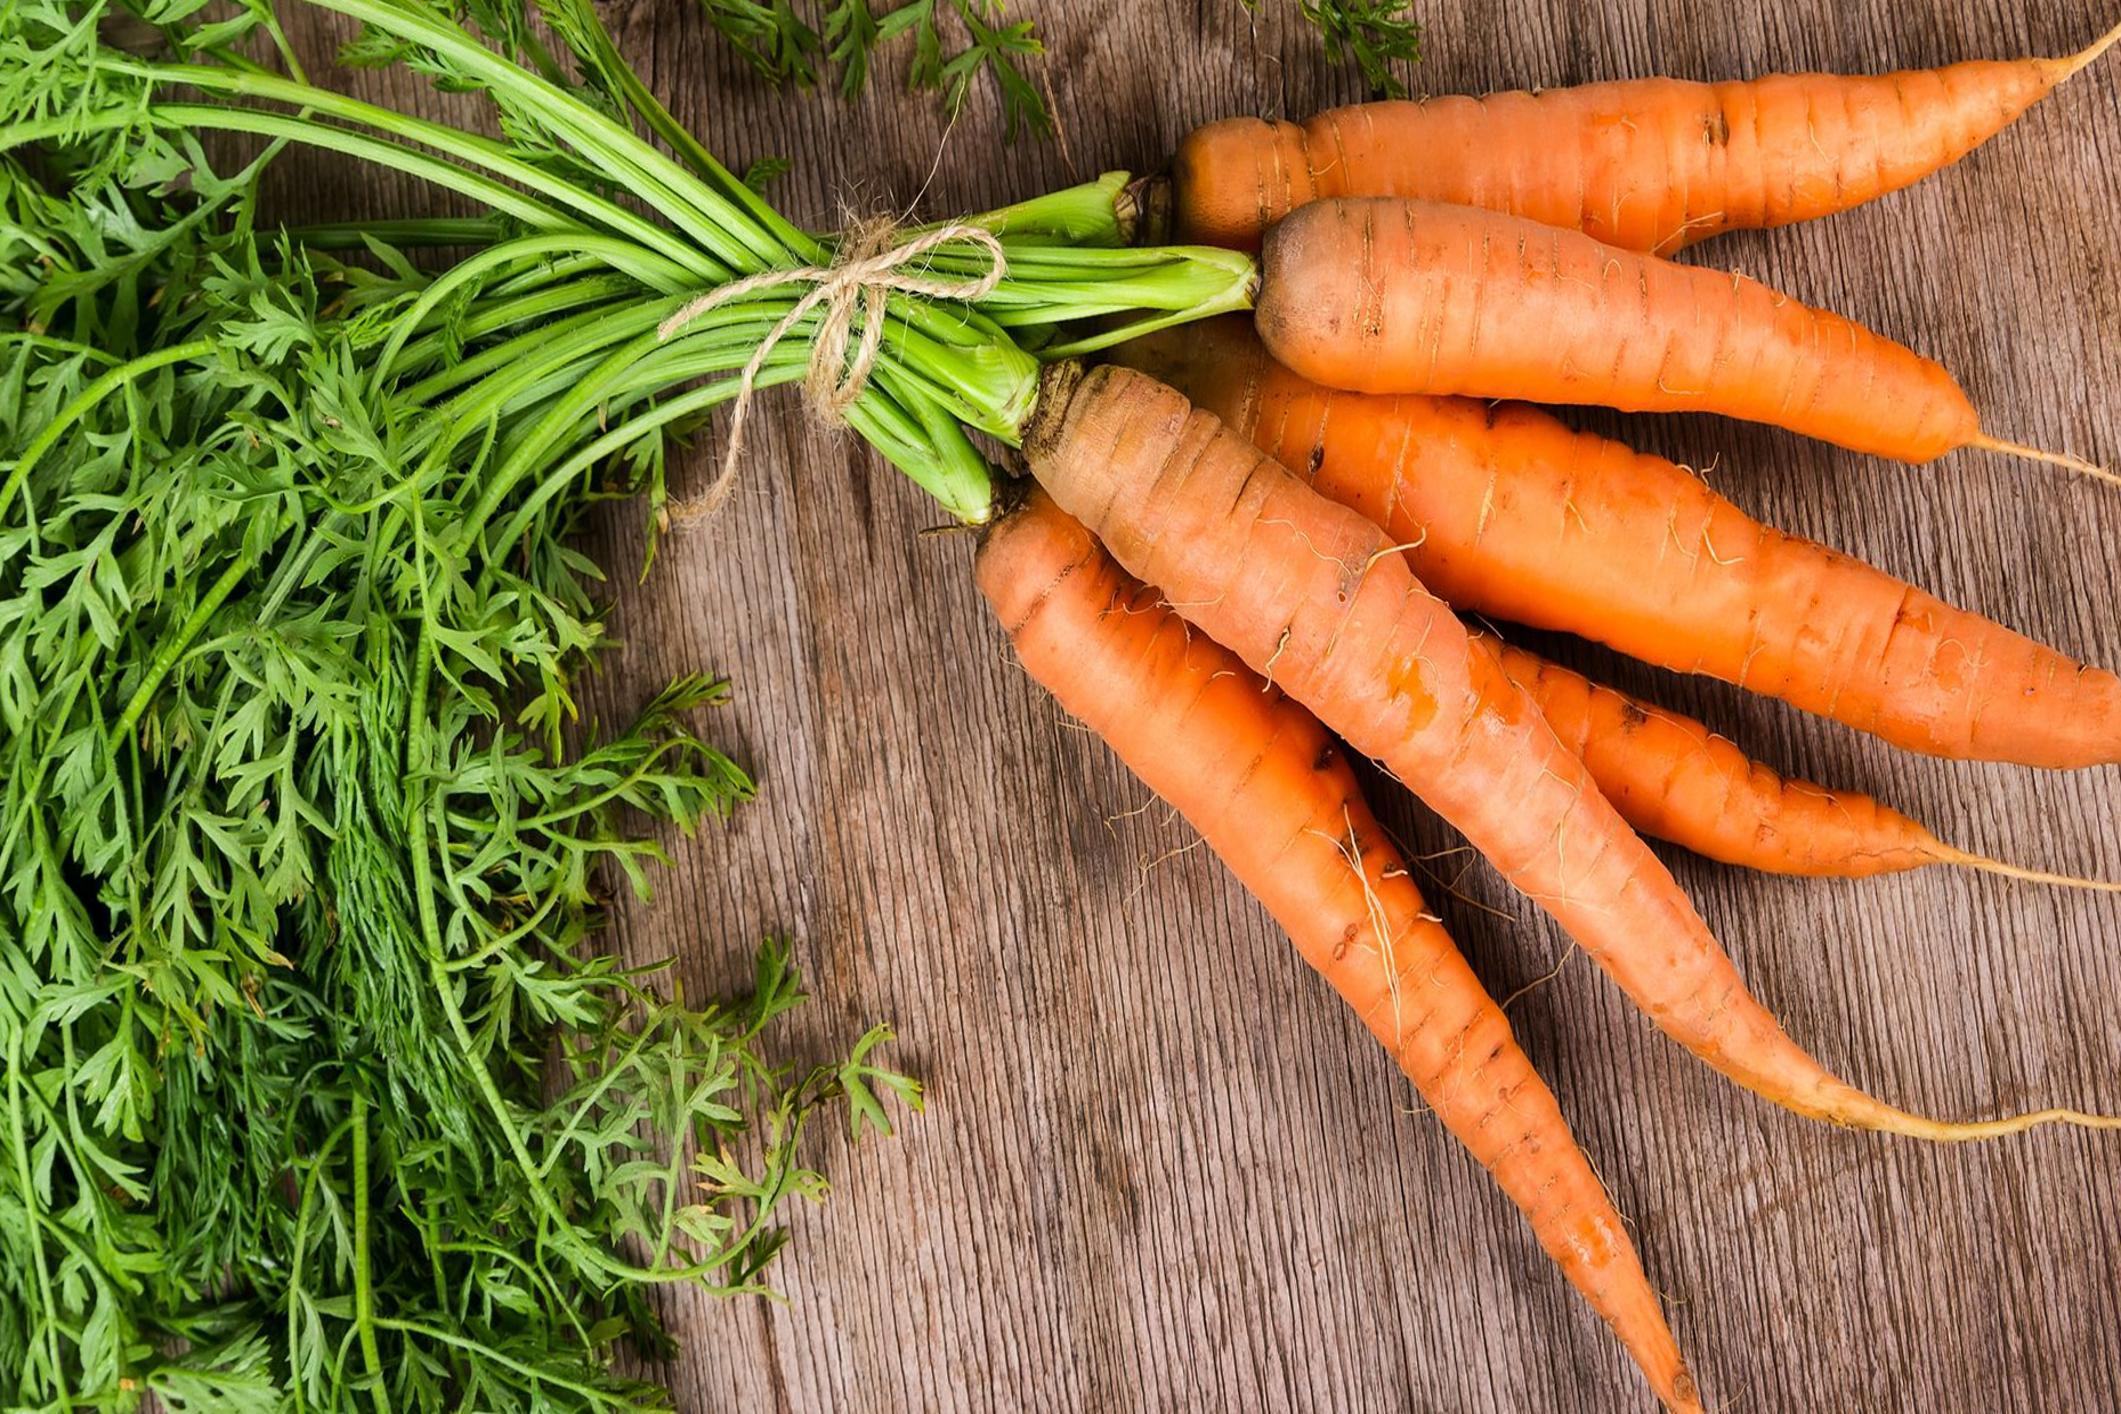carrot: (964, 99, 2056, 1390)
